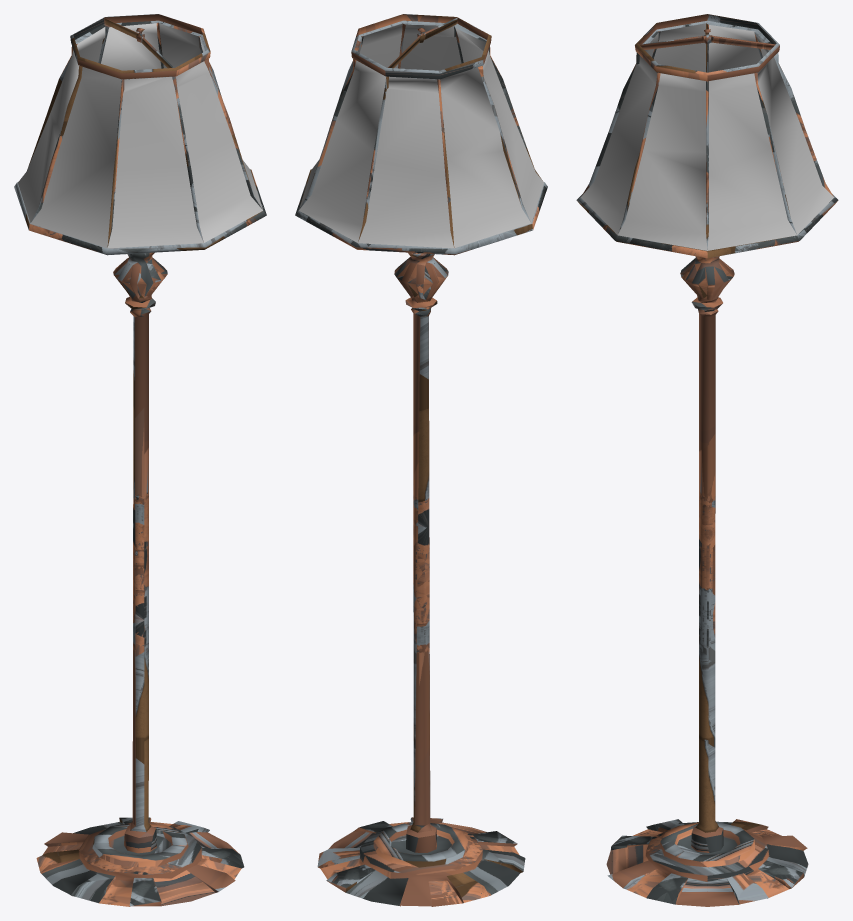
Rendered from low_lamp.fbx.
3 renders of one model, left to right at view 1: azimuth 30°, elevation 25°; view 2: azimuth 150°, elevation 25°; view 3: azimuth 270°, elevation 25°, orthographic.
Visible parts, largest first — view 1: pSphere4; view 2: pSphere4; view 3: pSphere4.
Boxes of the visible parts, x1,y1,x2,y2 form: pSphere4: (14,14,266,906); pSphere4: (295,14,547,906); pSphere4: (576,14,838,906).
Bounding box in the file's own units: 54.94 × 197 × 55.99.
Materials: 2 (1 with a texture image).
